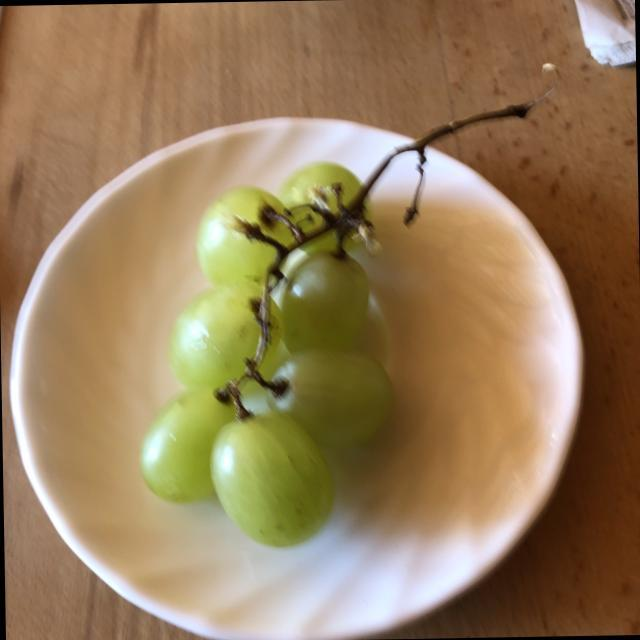Grapes: (128, 144, 410, 553)
